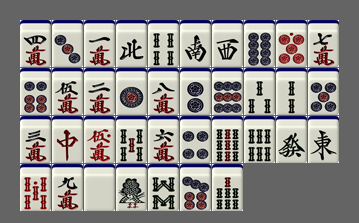0m: (84, 116, 115, 163)
0p: (276, 20, 307, 67)
0s: (20, 164, 51, 211)
1m: (84, 20, 115, 67)
1p: (116, 68, 147, 115)
1s: (116, 164, 147, 211)
1z: (308, 116, 339, 163)
2m: (84, 68, 115, 115)
2p: (180, 68, 211, 115)
2s: (276, 68, 307, 115)
2z: (180, 20, 211, 67)
3m: (20, 116, 51, 163)
3p: (52, 20, 83, 67)
3s: (244, 68, 275, 115)
3z: (212, 20, 243, 67)
4m: (20, 20, 51, 67)
4p: (180, 116, 211, 163)
4s: (148, 20, 179, 67)
4z: (116, 20, 147, 67)
5m: (52, 68, 83, 115)
5p: (308, 68, 339, 115)
5s: (116, 116, 147, 163)
5z: (84, 164, 115, 211)
6m: (148, 116, 179, 163)
6p: (20, 68, 51, 115)
6s: (244, 116, 275, 163)
6z: (276, 116, 307, 163)
7m: (308, 20, 339, 67)
7p: (180, 164, 211, 211)
7s: (212, 164, 243, 211)
7z: (52, 116, 83, 163)
8m: (148, 68, 179, 115)
8p: (244, 20, 275, 67)
8s: (148, 164, 179, 211)
9m: (52, 164, 83, 211)
9p: (212, 68, 243, 115)
9s: (212, 116, 243, 163)
